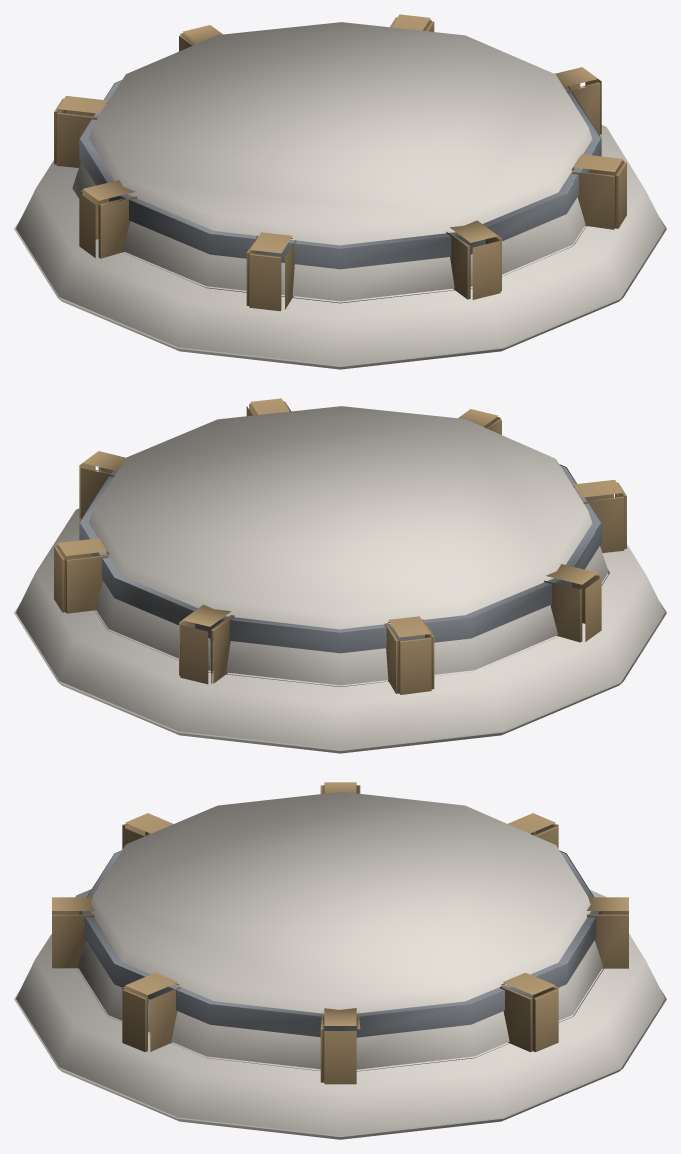
The model's file is rune_mortar_base_lod1.glb.
3 renders of one model, top to bottom at view 1: azimuth 30°, elevation 25°; view 2: azimuth 150°, elevation 25°; view 3: azimuth 270°, elevation 25°, orthographic.
Visible parts, largest first — view 1: rune_mortar_base.001; view 2: rune_mortar_base.001; view 3: rune_mortar_base.001.
Part boxes in pixels (left/top/right/bottom): rune_mortar_base.001: left=14, top=14, right=666, bottom=369; rune_mortar_base.001: left=14, top=398, right=666, bottom=753; rune_mortar_base.001: left=14, top=782, right=666, bottom=1139.
Bounding box in the file's own units: 3.62 × 0.664 × 3.62.
